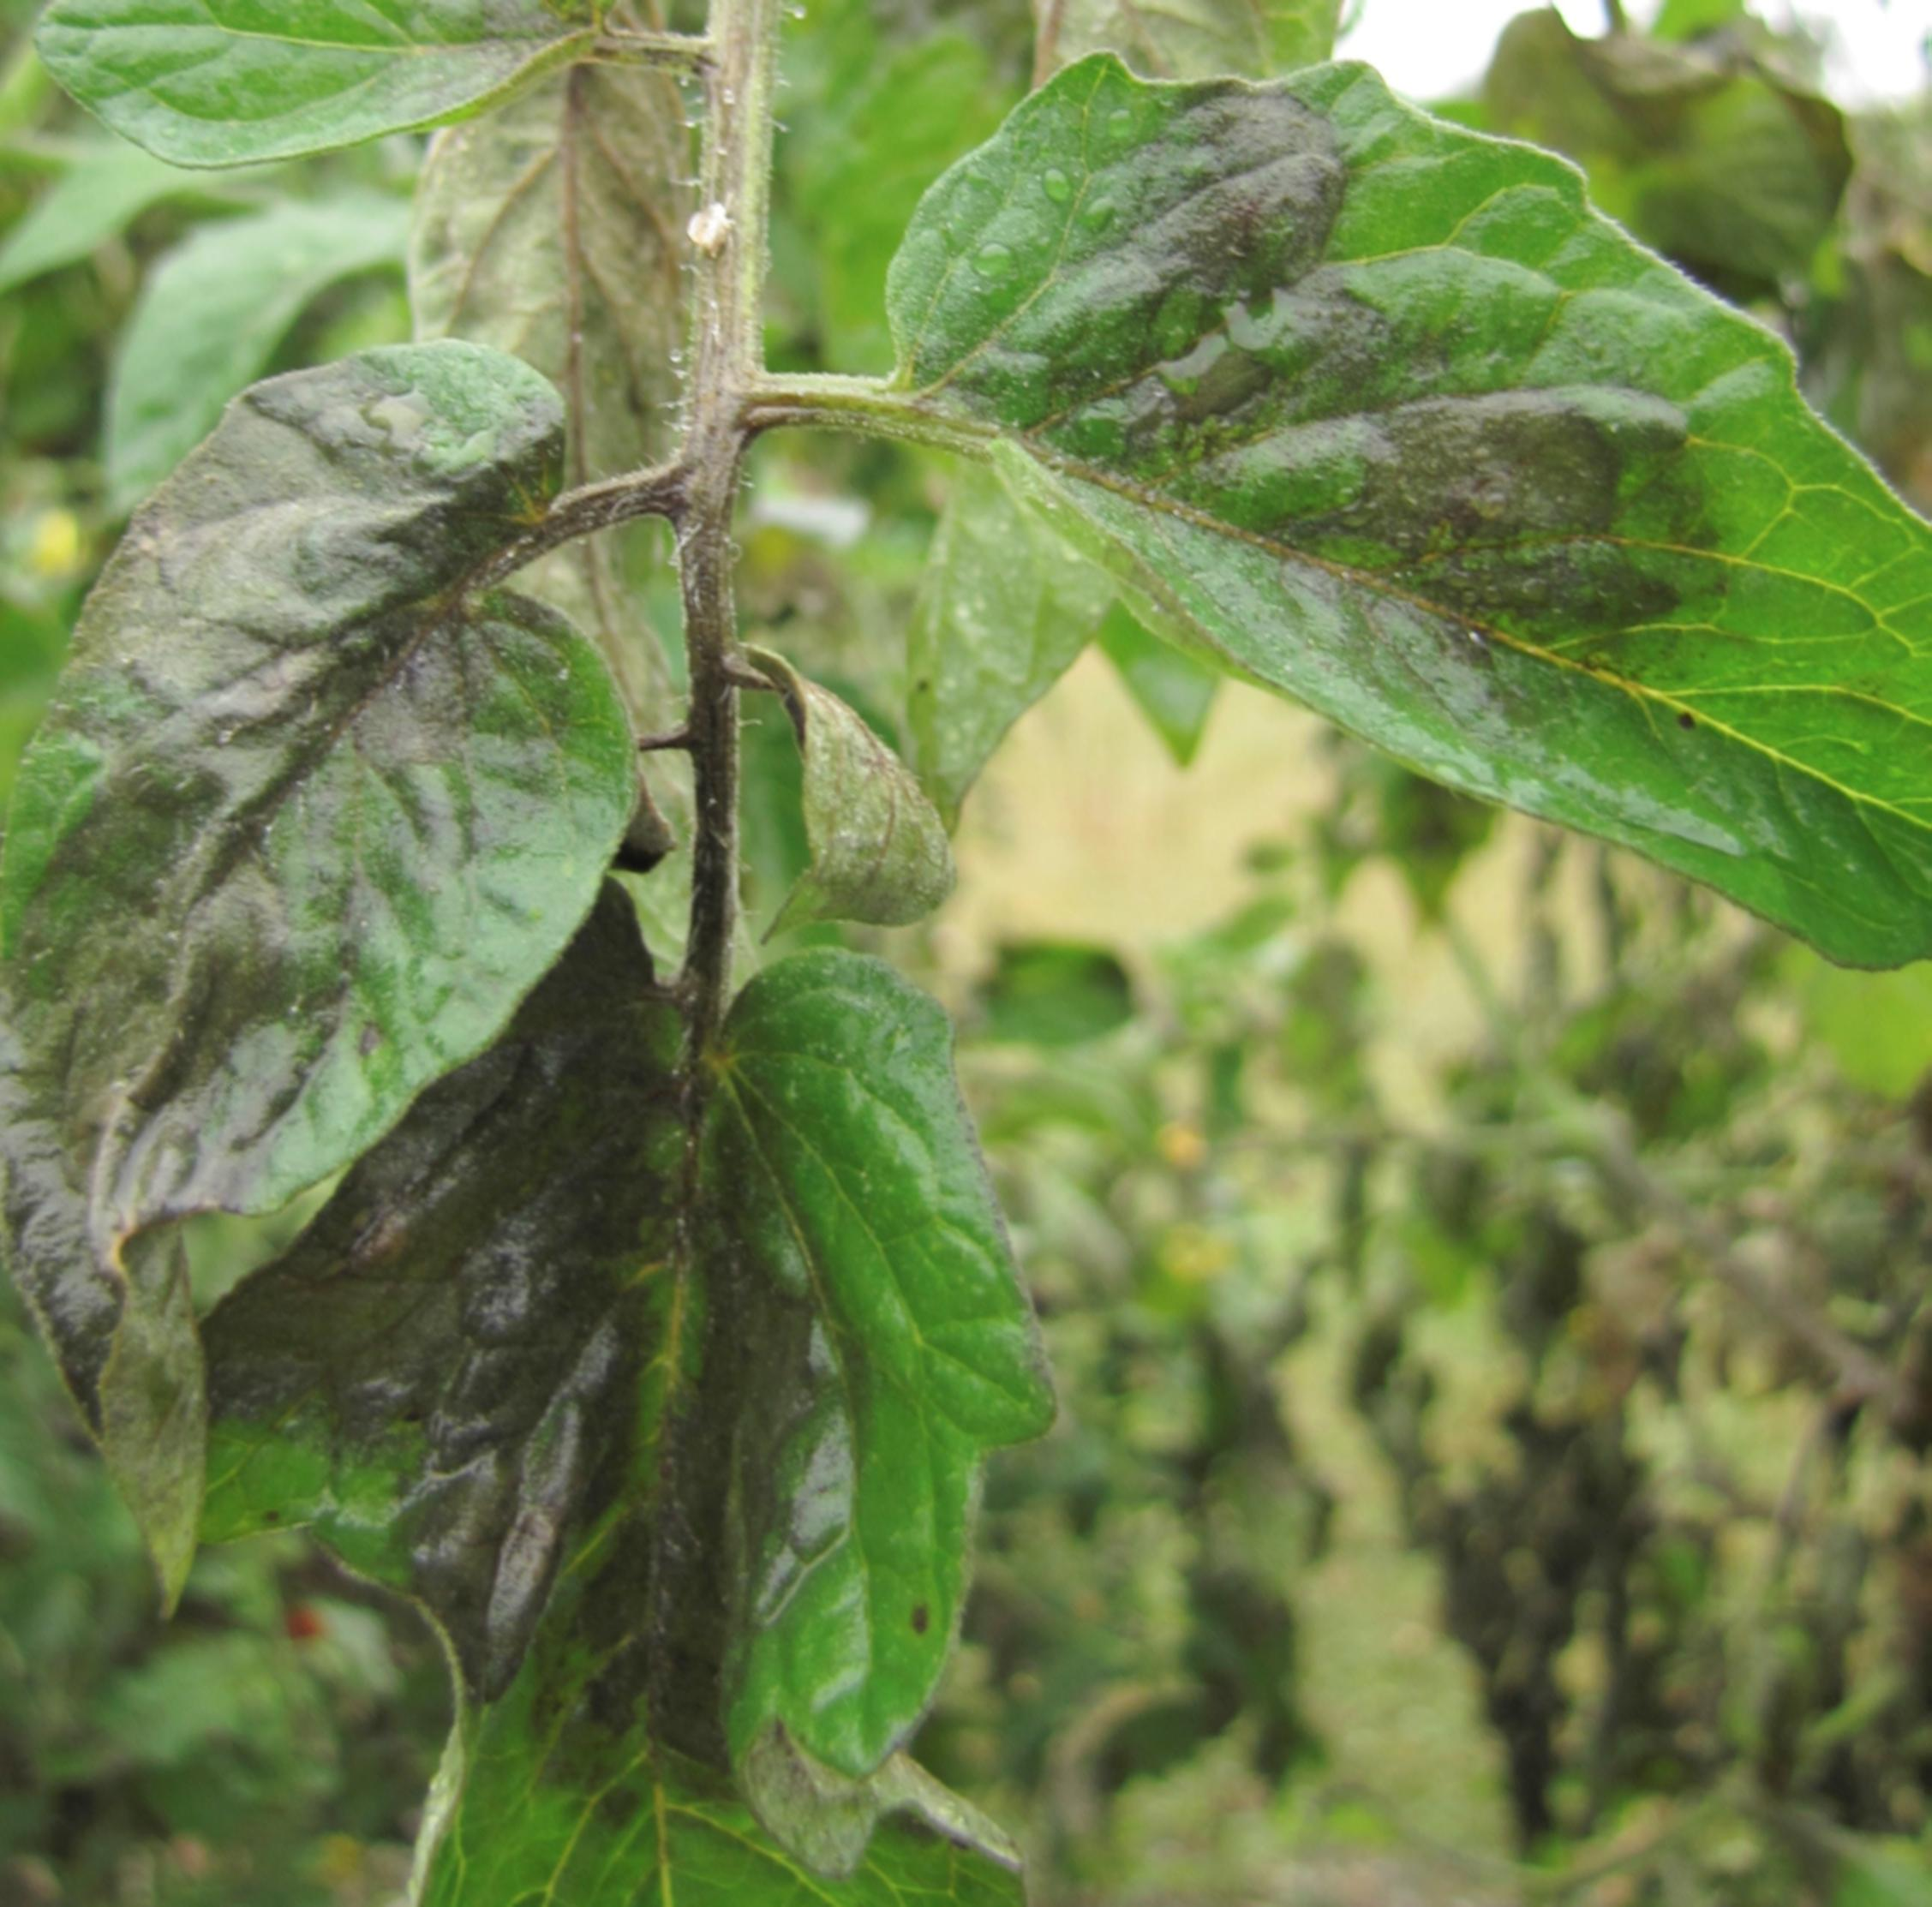Tomato leaf late blight: (880, 35, 1932, 987), (236, 905, 1099, 1907), (0, 355, 669, 1551)
